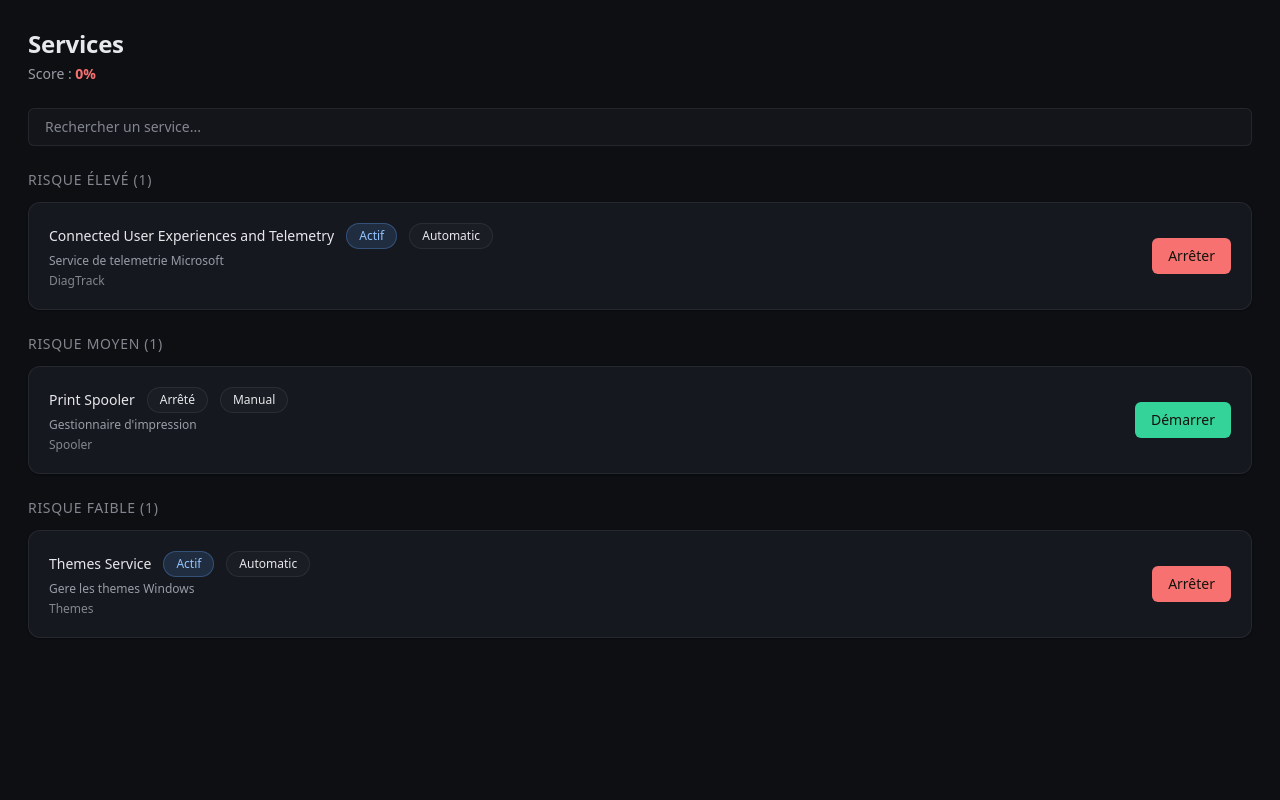
it: ServicesPage › filters services via search input
The width and height of the screenshot is (1280, 800).
Expected: the text "Print Spooler" is shown, [49, 390, 135, 410]
Type "spooler" into the search field with placeholder "Rechercher un service...".
click(640, 127); type("spooler")  # box [28, 108, 1252, 146]
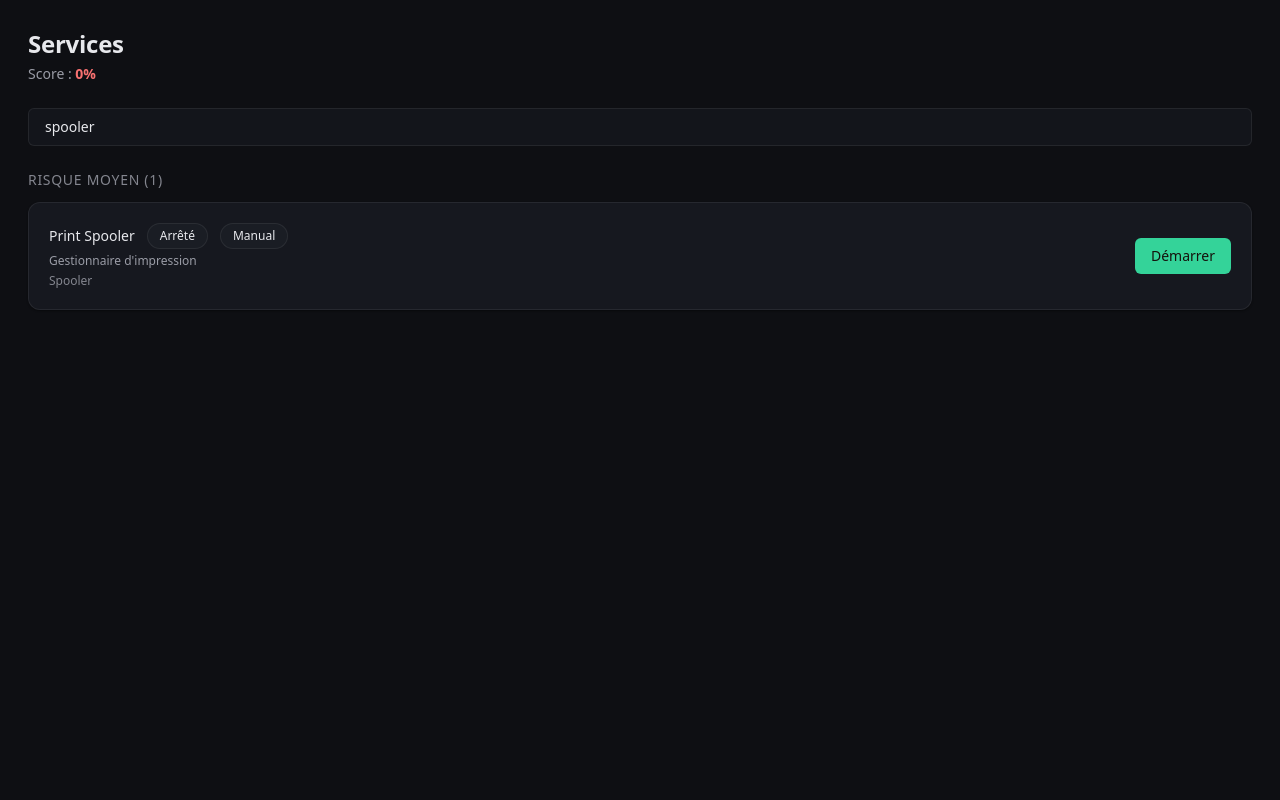
Expected: the text "Print Spooler" is shown, [49, 226, 135, 246]
Result: the text "Connected User Experiences and Telemetry" is gone
Result: the text "Themes Service" is gone
